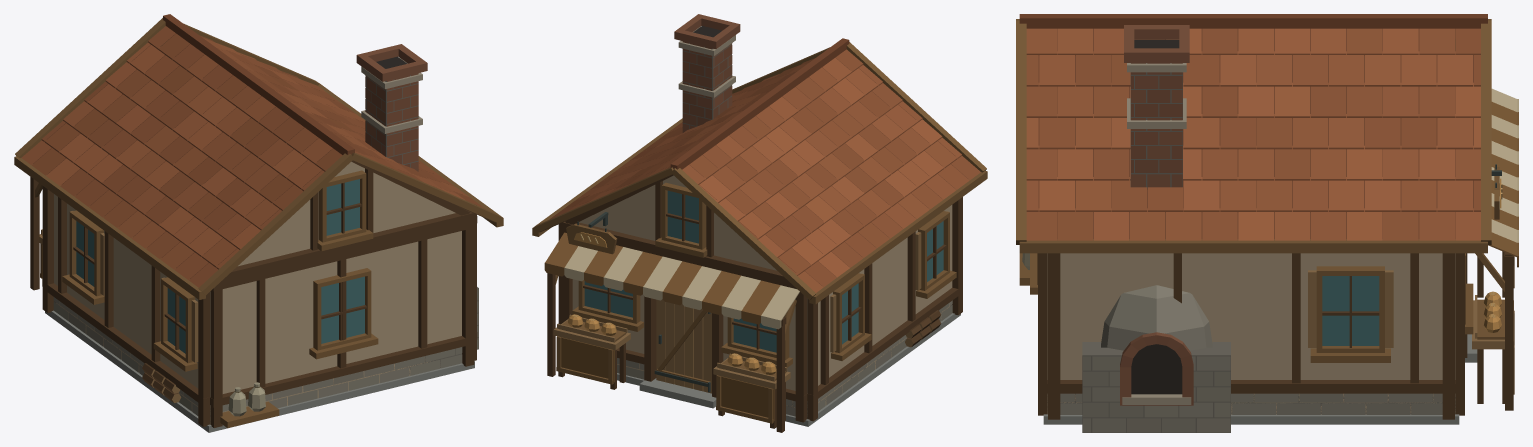
The model's file is Bakery.glb.
The picture shows the model from 3 angles, left to right: view 1: azimuth 30°, elevation 25°; view 2: azimuth 150°, elevation 25°; view 3: azimuth 270°, elevation 25°; orthographic projection. The views are drawn at different scales.
Parts seen in each view (by area): view 1: Bakery, BakeryGlass; view 2: Bakery, BakeryDoor, BakeryGlass; view 3: Bakery, BakeryGlass.
Boxes of the visible parts, x1,y1,x2,y2 form: Bakery: [14, 14, 503, 432]; BakeryGlass: [76, 179, 364, 353]; Bakery: [532, 14, 987, 432]; BakeryDoor: [654, 299, 711, 393]; BakeryGlass: [584, 190, 943, 352]; Bakery: [1016, 14, 1518, 432]; BakeryGlass: [1322, 276, 1379, 345].
Size of the model in its own units: 6.96 by 6.07 by 7.64.
